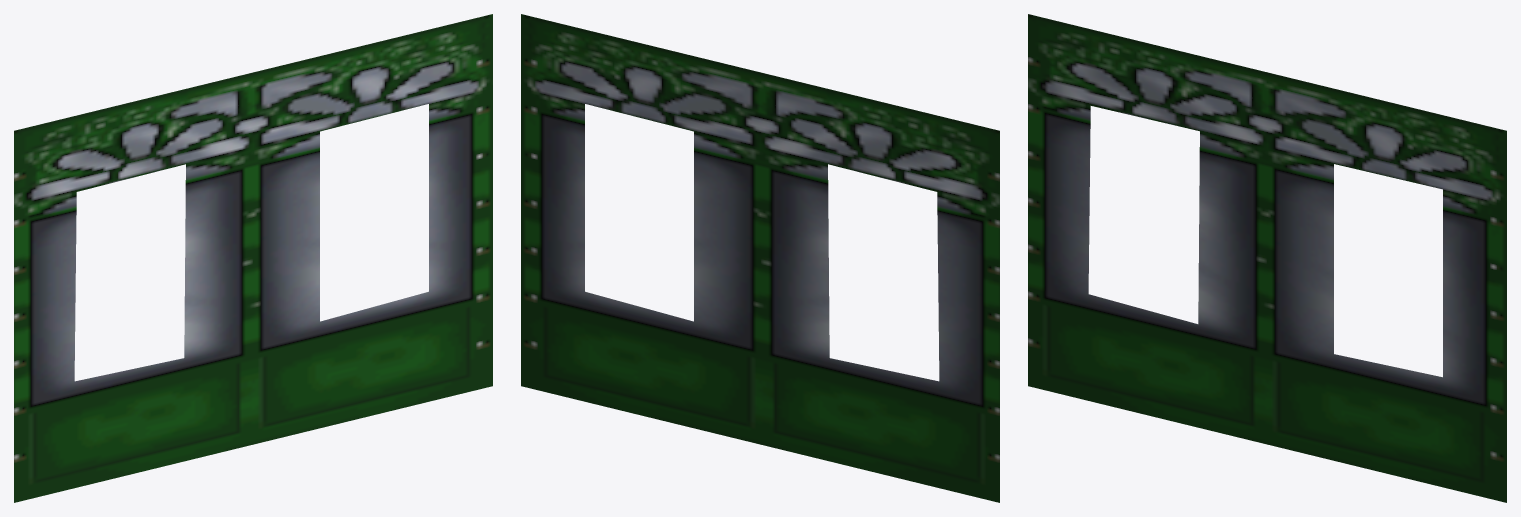
File: W_AI2r_ff [GrünesMetall]_314.glb
3 renders of one model, left to right at view 1: azimuth 30°, elevation 25°; view 2: azimuth 150°, elevation 25°; view 3: azimuth 330°, elevation 25°, orthographic.
Parts seen in each view (by area): view 1: pPlaneShape2; view 2: pPlaneShape2; view 3: pPlaneShape2.
Part boxes in pixels (x1=…): pPlaneShape2: x1=14, y1=14, x2=492, y2=502; pPlaneShape2: x1=521, y1=14, x2=999, y2=502; pPlaneShape2: x1=1028, y1=14, x2=1506, y2=502.
Size of the model in its own units: 0.4693 by 0.3486 by 1.24e-07.
1 material, 1 textured.
